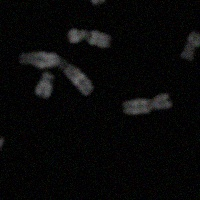chromosome: (23, 51, 94, 93), (68, 25, 112, 51), (122, 94, 171, 116), (180, 31, 200, 61), (180, 0, 200, 29), (35, 71, 53, 96), (70, 0, 107, 6)
